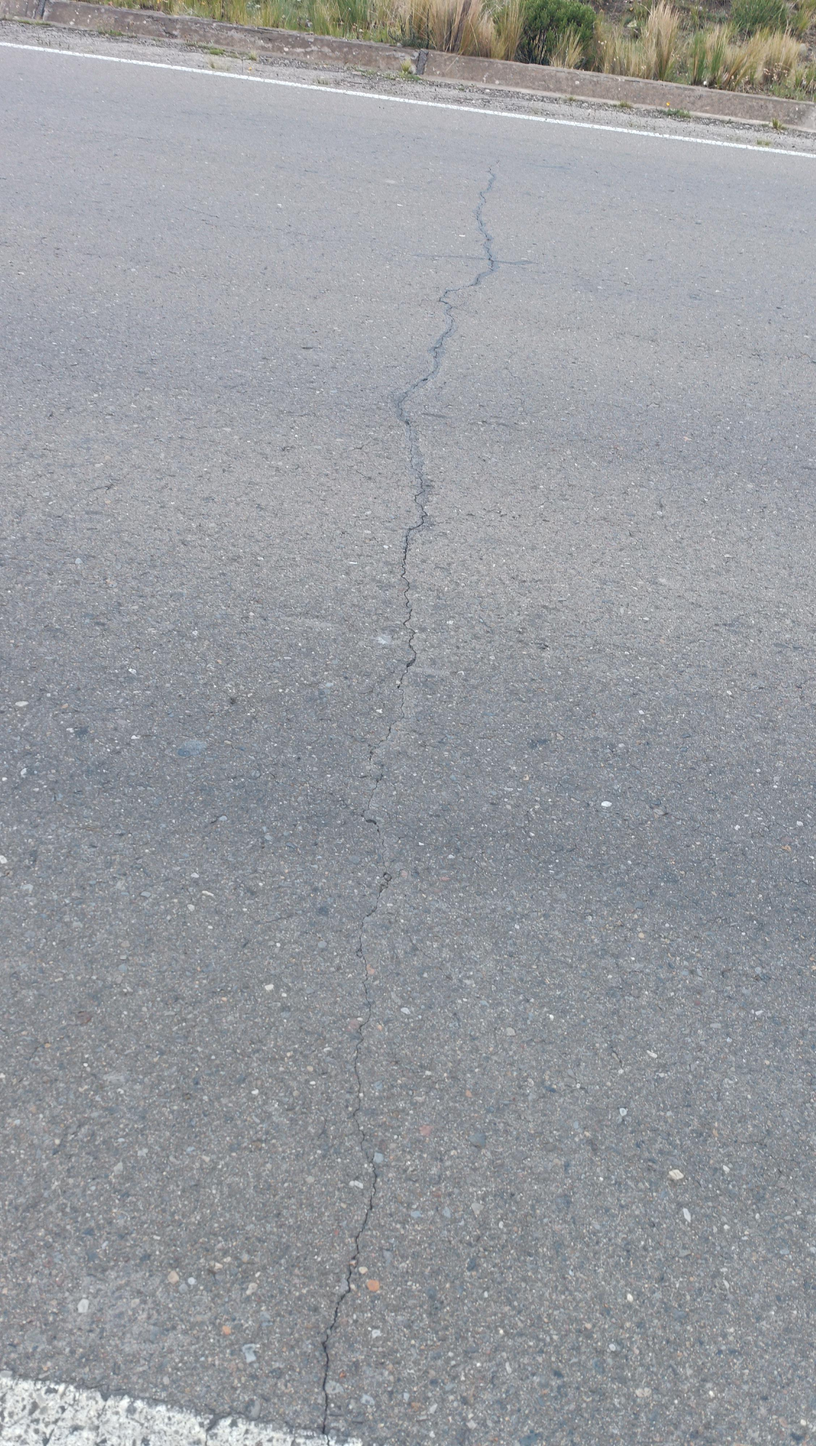GRIETA: (319, 1145, 377, 1446), (352, 818, 393, 1145), (396, 297, 455, 488), (396, 490, 428, 690), (442, 221, 495, 297), (475, 165, 495, 219)
